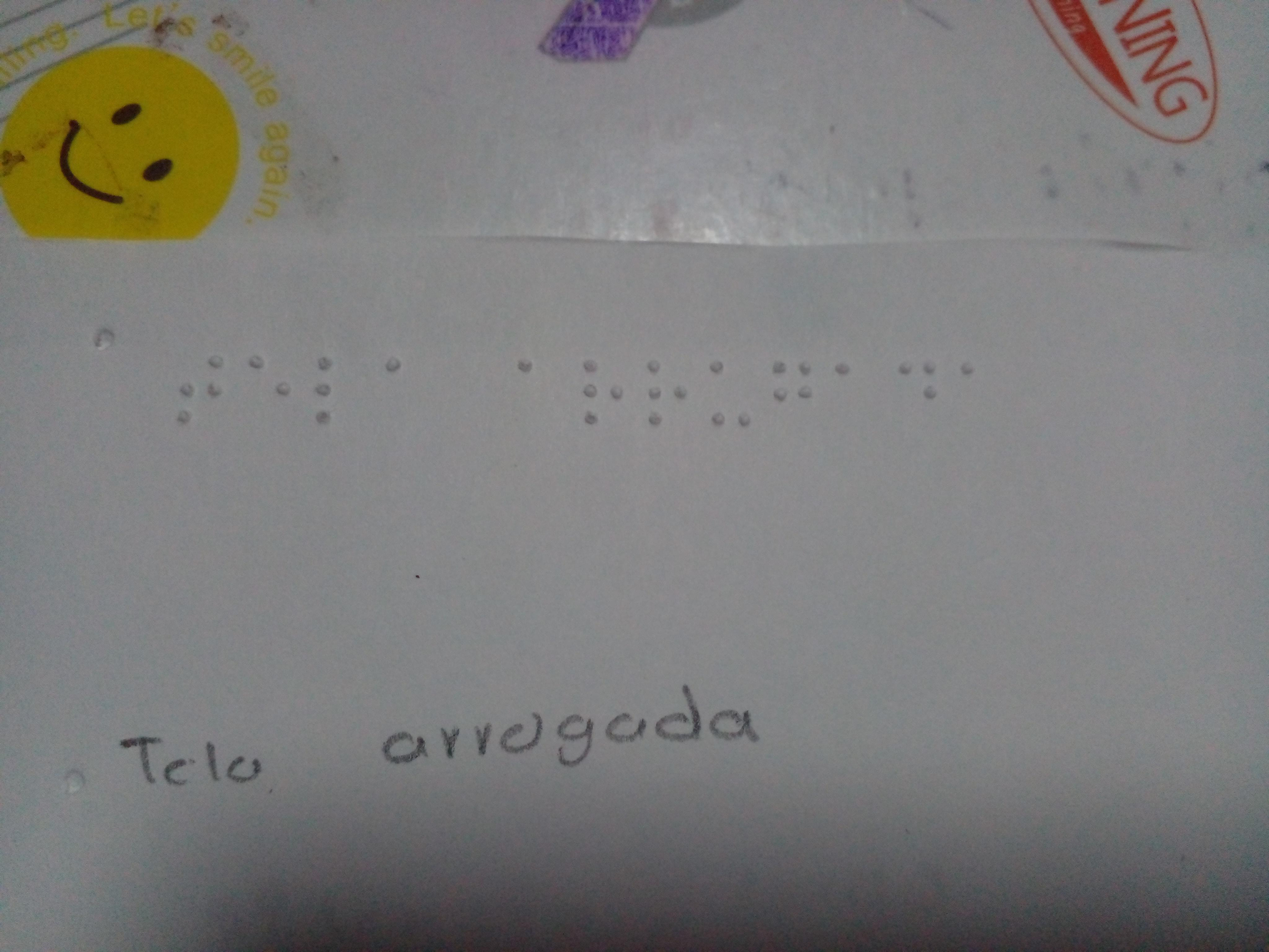a: (367, 333, 421, 408), (505, 341, 545, 397), (950, 346, 984, 401), (826, 346, 860, 389)
d: (902, 352, 946, 404)
e: (237, 349, 296, 414)
g: (767, 356, 818, 415)
l: (304, 342, 353, 432)
r: (570, 344, 630, 429), (641, 356, 692, 437)
t: (166, 347, 235, 421)
u: (711, 346, 754, 449)
